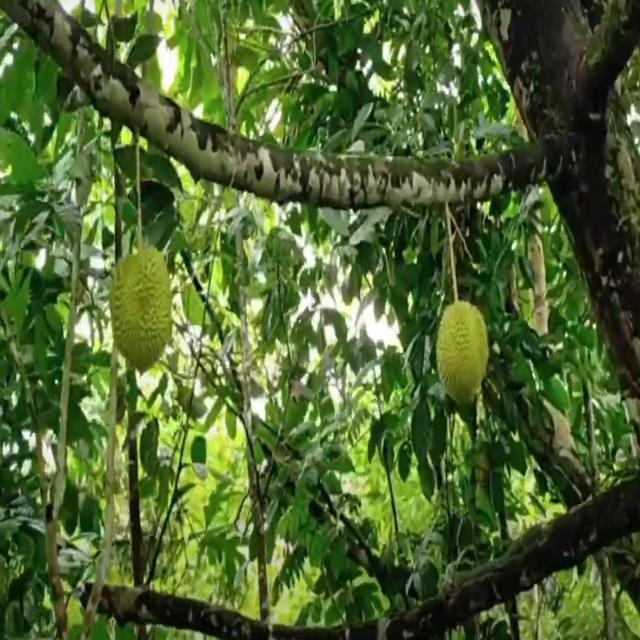immature: (111, 240, 174, 374), (435, 296, 491, 406)
